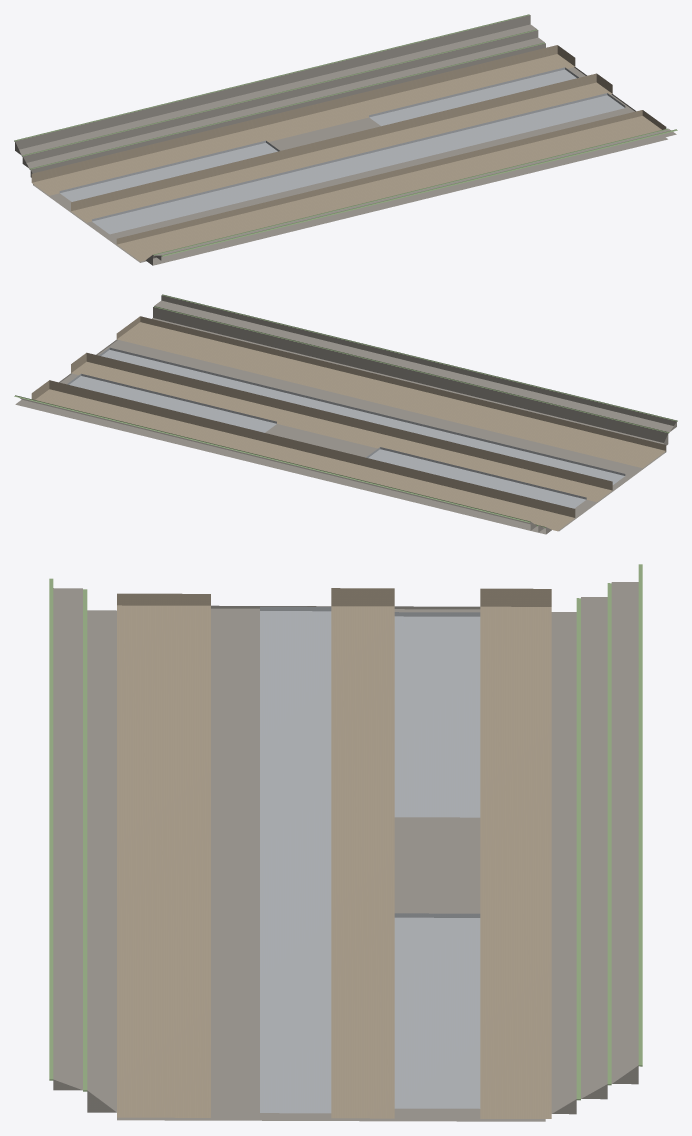
The model's file is qingnian-z1-terrain.glb.
3 renders of one model, top to bottom at view 1: azimuth 30°, elevation 25°; view 2: azimuth 150°, elevation 25°; view 3: azimuth 270°, elevation 25°, orthographic. The views are drawn at different scales.
Parts seen in each view (by area): view 1: earth_terrain, rock_terrain, concreteDark_terrain, grass_terrain; view 2: earth_terrain, rock_terrain, concreteDark_terrain, grass_terrain; view 3: earth_terrain, rock_terrain, concreteDark_terrain, grass_terrain.
Boxes of the visible parts, <box> form: earth_terrain: <box>31,45,666,261</box>; rock_terrain: <box>15,15,676,265</box>; concreteDark_terrain: <box>59,67,625,234</box>; grass_terrain: <box>14,14,677,256</box>; earth_terrain: <box>31,316,666,531</box>; rock_terrain: <box>15,295,676,534</box>; concreteDark_terrain: <box>67,347,625,508</box>; grass_terrain: <box>14,294,677,527</box>; earth_terrain: <box>117,588,551,1118</box>; rock_terrain: <box>53,582,638,1121</box>; concreteDark_terrain: <box>260,606,480,1113</box>; grass_terrain: <box>49,564,642,1100</box>.
Size of the model in its own units: 2040 by 97.49 by 997.
Materials: 4 (4 with a texture image).
